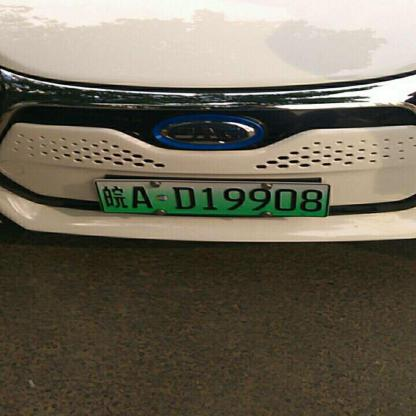lp: (94, 181, 329, 215)
